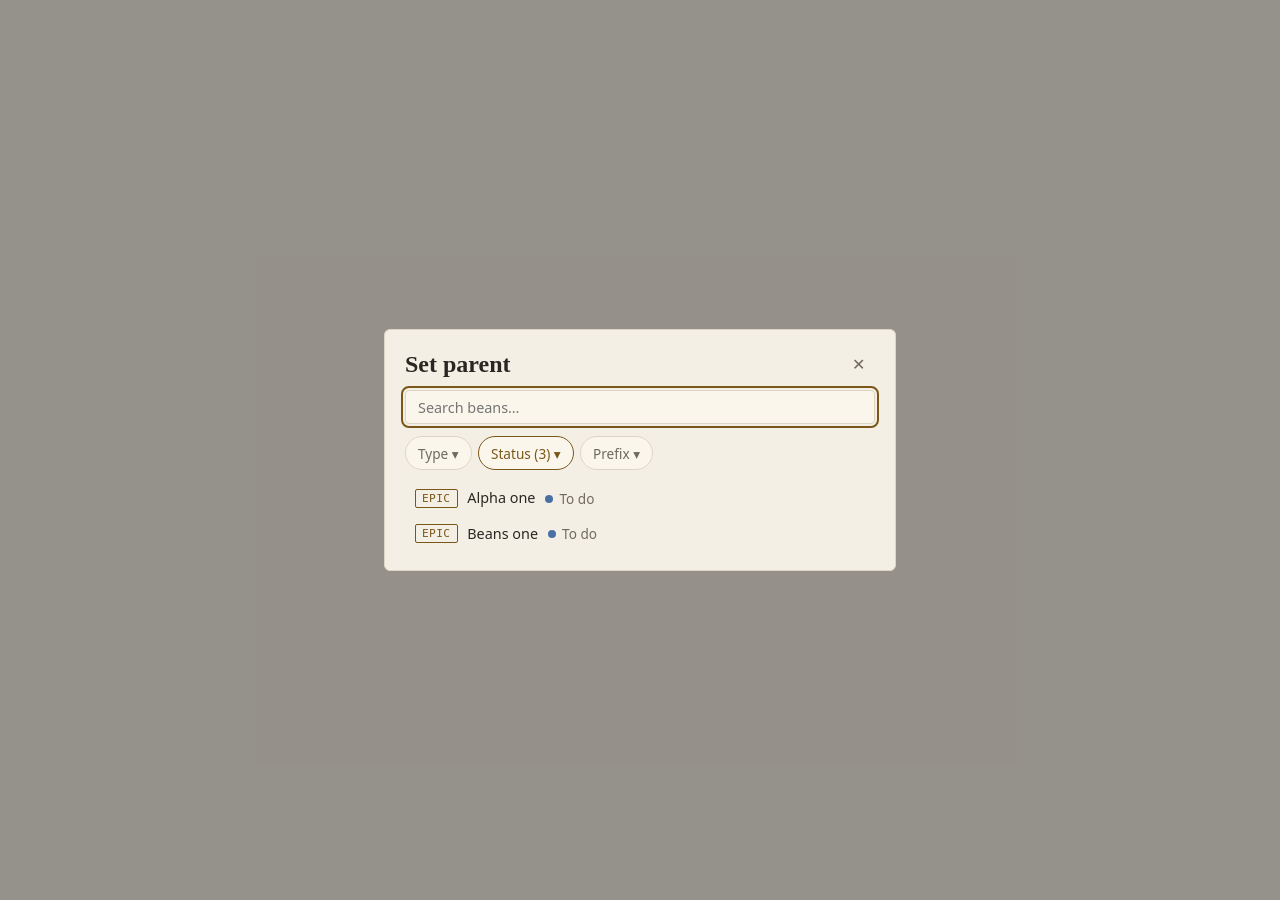
Test: BeanPicker › filters candidates by prefix
Click the button "Prefix ▾" at (616, 453), box [580,436,653,470]
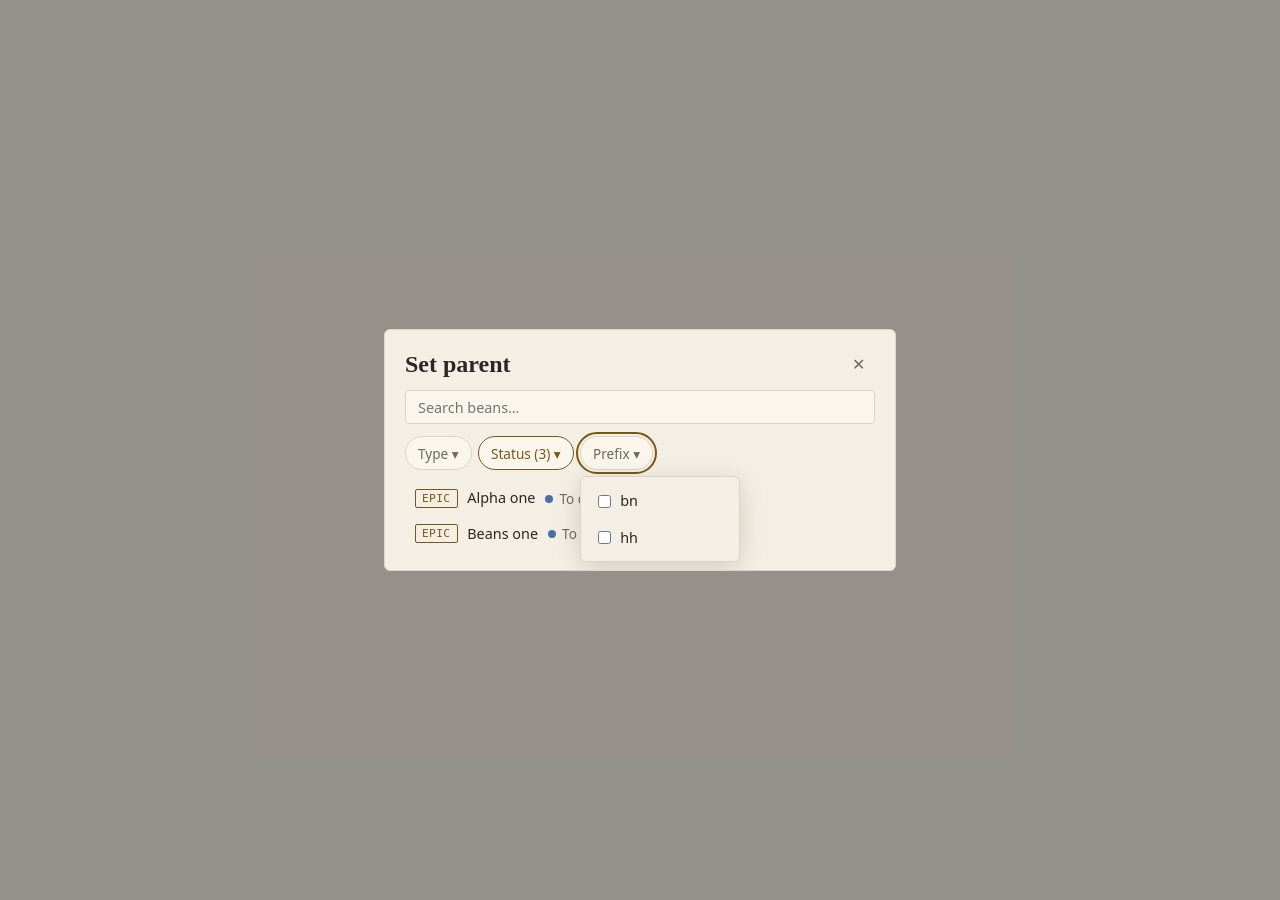
Click the checkbox labelled "bn" at (604, 501), box [598,494,611,508]
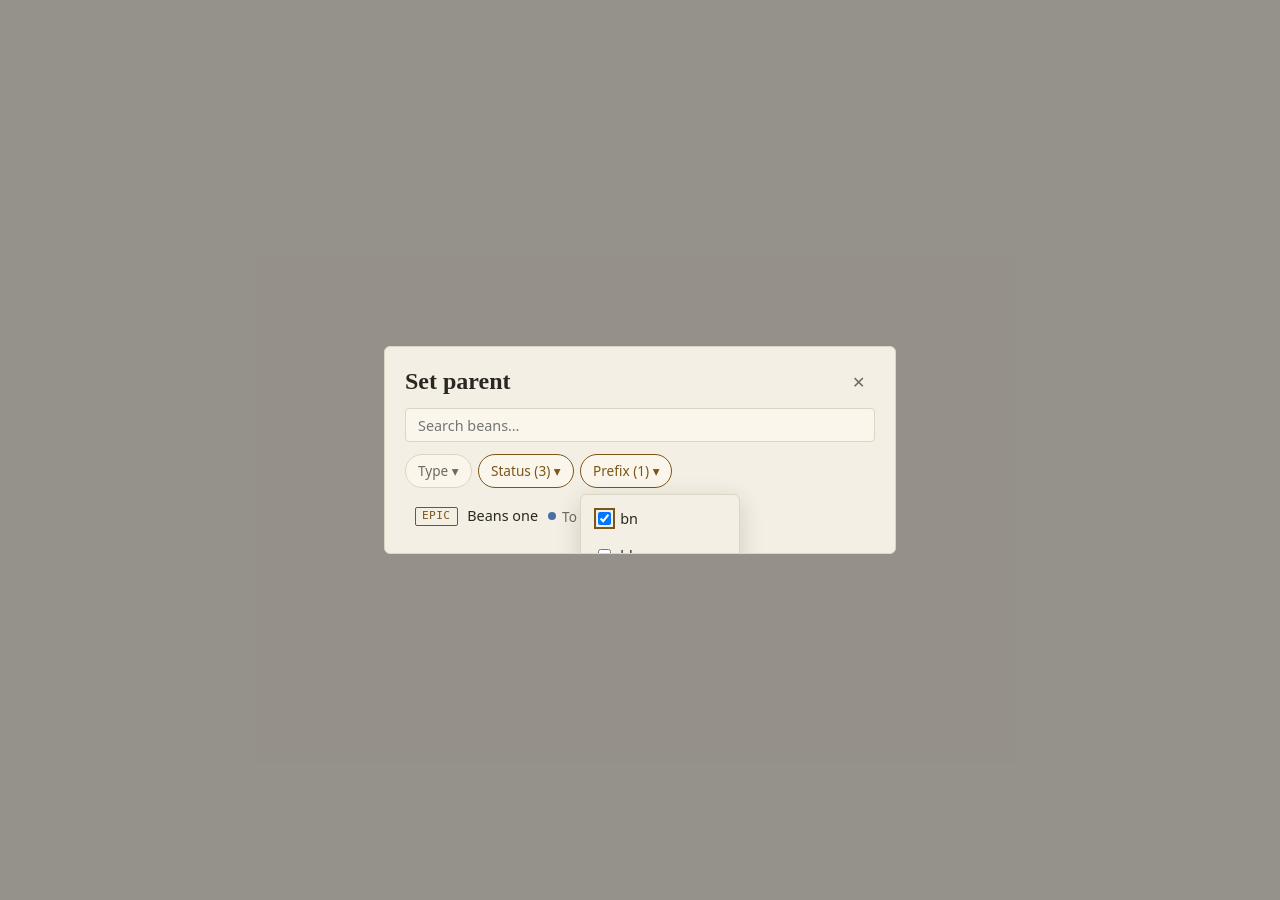
Expected: the text "Beans one" is shown, [467,506,538,526]
Result: the button "Alpha one" is gone
